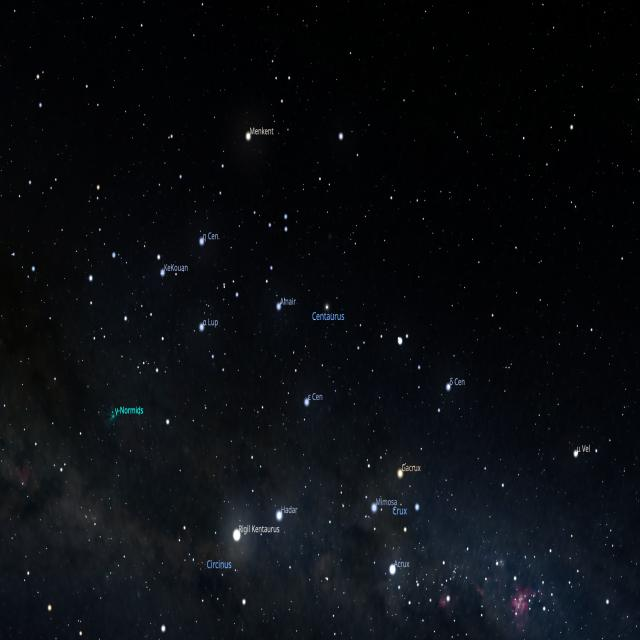Centaurus: (159, 127, 487, 605)
